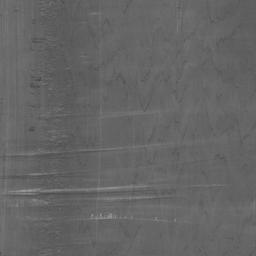Crease: (2, 184, 225, 202), (6, 144, 172, 158), (52, 110, 160, 120), (64, 213, 172, 223)
